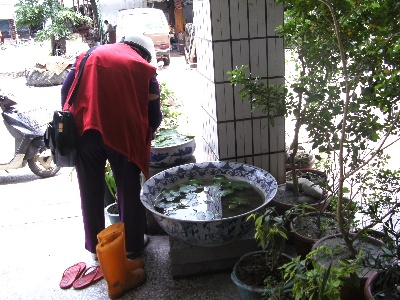bowl: (140, 159, 279, 246)
